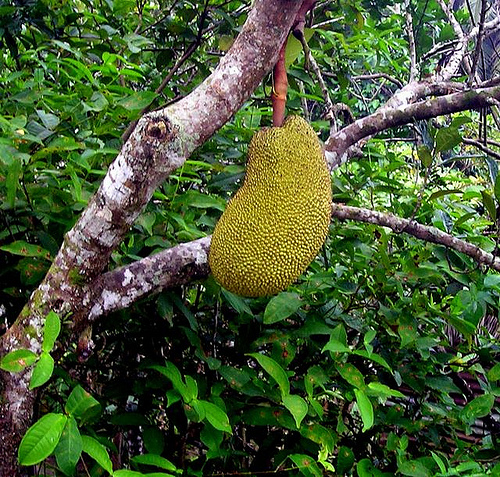jackfruit: (208, 112, 331, 300)
